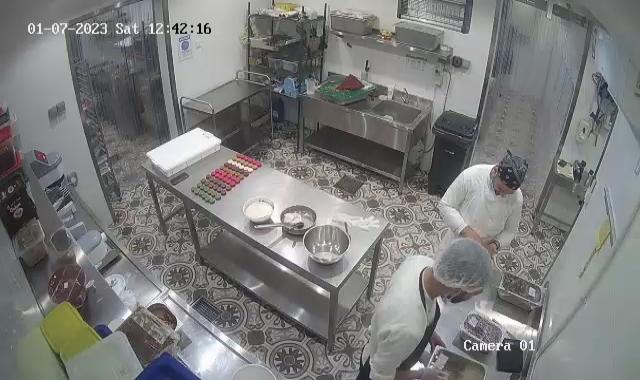hairnet: (436, 236, 497, 297)
no_hairnet: (493, 150, 528, 192)
